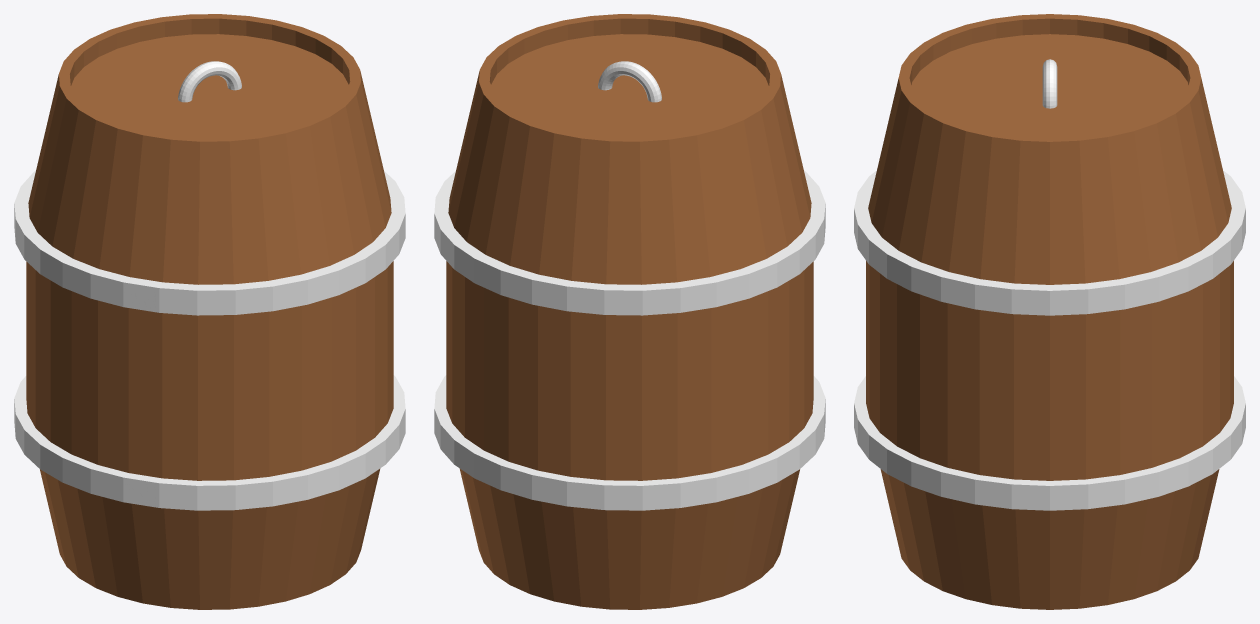
File: betterbarrel.fbx
3 renders of one model, left to right at view 1: azimuth 30°, elevation 25°; view 2: azimuth 150°, elevation 25°; view 3: azimuth 270°, elevation 25°, orthographic.
Visible parts, largest first — view 1: Cylinder; view 2: Cylinder; view 3: Cylinder.
Boxes of the visible parts, x1=… form: Cylinder: x1=14, y1=14, x2=405, y2=609; Cylinder: x1=434, y1=14, x2=825, y2=609; Cylinder: x1=854, y1=14, x2=1245, y2=609.
Size of the model in its own units: 259 by 352 by 259.
